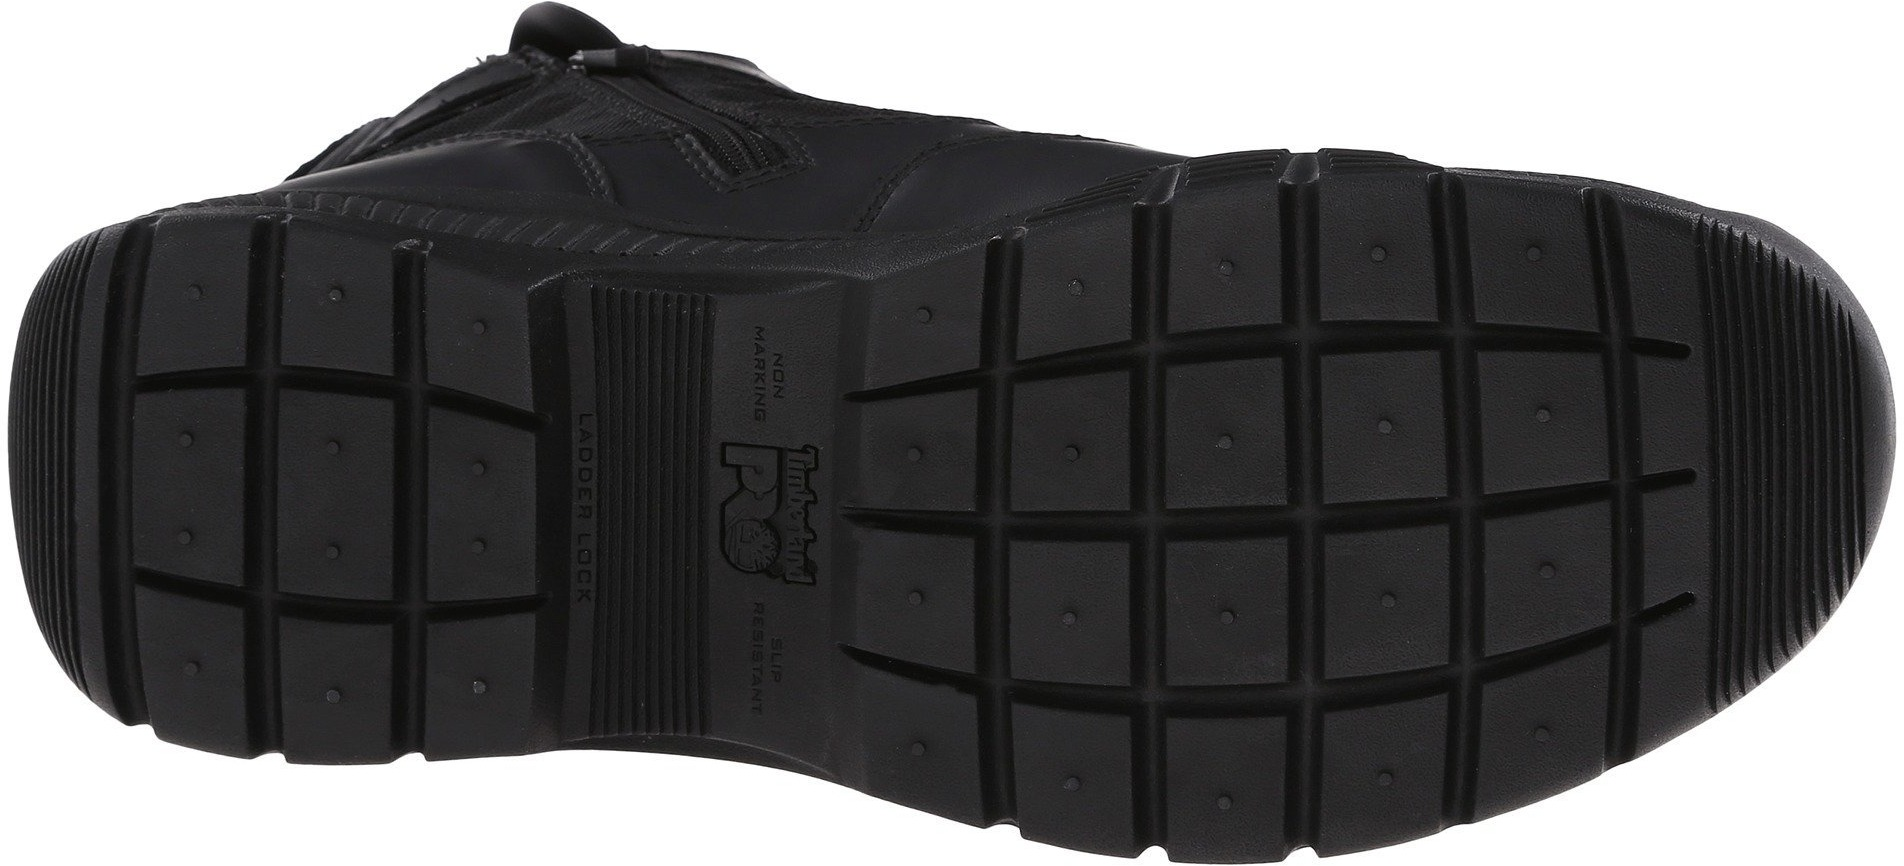circle: (895, 285, 1262, 609), (1266, 188, 1600, 523), (129, 234, 437, 523), (1266, 531, 1536, 810), (270, 536, 508, 755)
exclude: (543, 274, 856, 788)
other: (1698, 343, 1878, 538)
quad: (895, 285, 1262, 609), (1266, 188, 1600, 523), (129, 234, 437, 523), (1266, 531, 1536, 810), (270, 536, 508, 755)
text: (718, 438, 831, 559)
